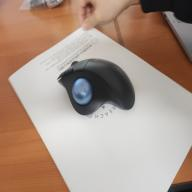mouse: (57, 57, 136, 116)
